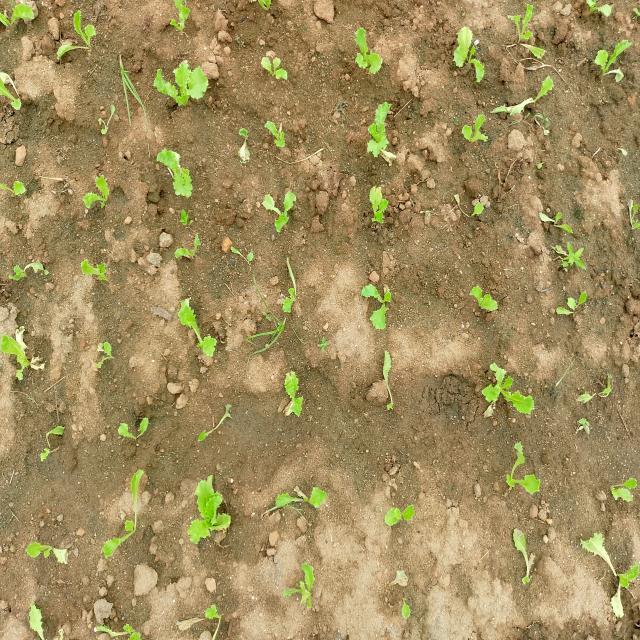Lettuce: (483, 340, 548, 428), (98, 456, 150, 564), (582, 527, 640, 619), (178, 472, 238, 547), (174, 286, 226, 368), (262, 471, 342, 522), (506, 519, 550, 598), (152, 56, 214, 112), (370, 348, 409, 434), (351, 274, 404, 333), (510, 66, 558, 131), (390, 567, 432, 636), (54, 0, 97, 66), (444, 23, 491, 82), (360, 102, 403, 165), (341, 24, 389, 80), (156, 144, 202, 202), (0, 324, 44, 384), (371, 479, 422, 530), (80, 157, 117, 225), (280, 559, 324, 615), (256, 187, 306, 235), (274, 366, 314, 424), (500, 443, 548, 491), (107, 406, 168, 443), (588, 37, 636, 84), (23, 528, 75, 571), (356, 185, 401, 234), (278, 271, 316, 329), (509, 6, 548, 61), (0, 163, 40, 216), (8, 251, 52, 297), (0, 3, 43, 49), (73, 251, 125, 289), (191, 404, 240, 443), (259, 44, 295, 97), (458, 105, 501, 148), (168, 226, 209, 270), (468, 273, 504, 322), (0, 61, 29, 117), (36, 422, 67, 473), (201, 596, 237, 639), (90, 331, 122, 378), (266, 112, 294, 165), (168, 0, 202, 42), (549, 239, 590, 273), (449, 189, 489, 219), (24, 594, 48, 638), (236, 125, 254, 154)
